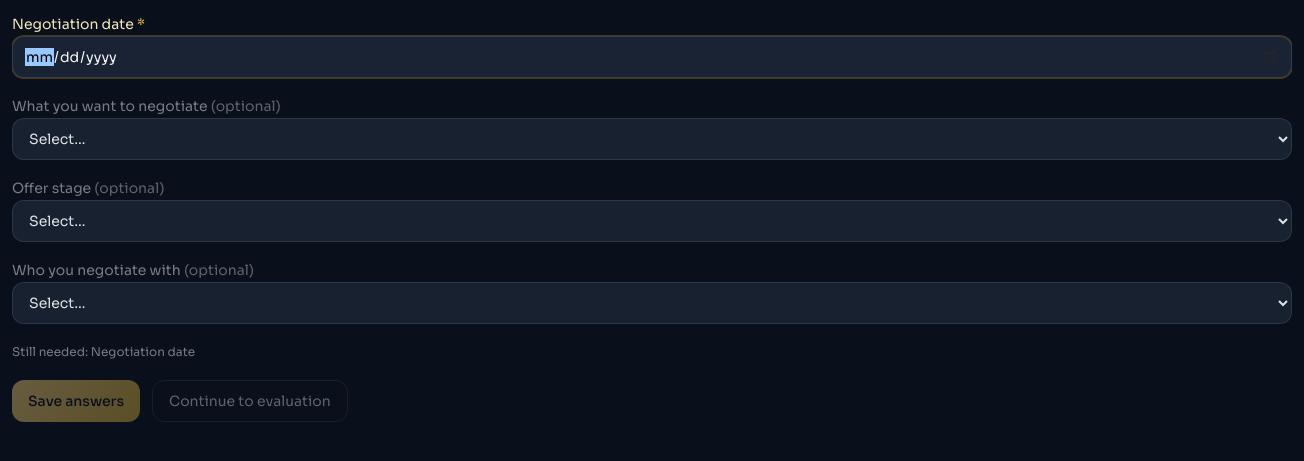
Test: OfferNegotiationIntakeForm › blocks Complete until the evaluated date is answered
This screenshot has width=1304, height=461.
Expected: the button with test id "intake-complete" is disabled, 152,380 -> 348,422
// Context alone never unlocks completion.
Select "Salary" in the dropdown with test id "intake-negotiation_goal" at (652, 139), box 12,118 -> 1292,160
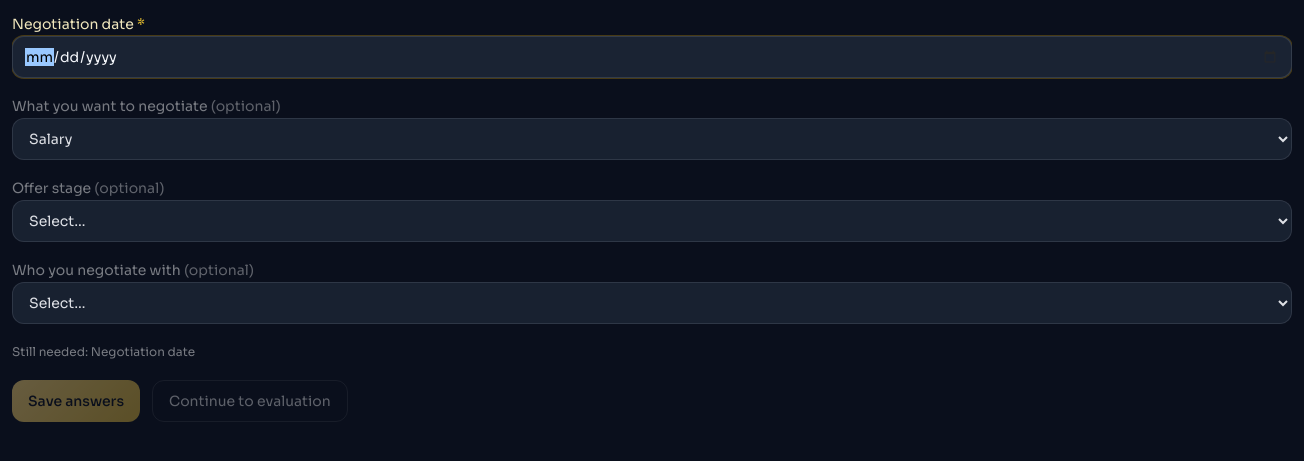
Expected: the button "Continue to evaluation" is disabled, 152,380 -> 348,422
Type "2026-09-15" into the date field with test id "intake-target_date" at (652, 57), box 12,36 -> 1292,78
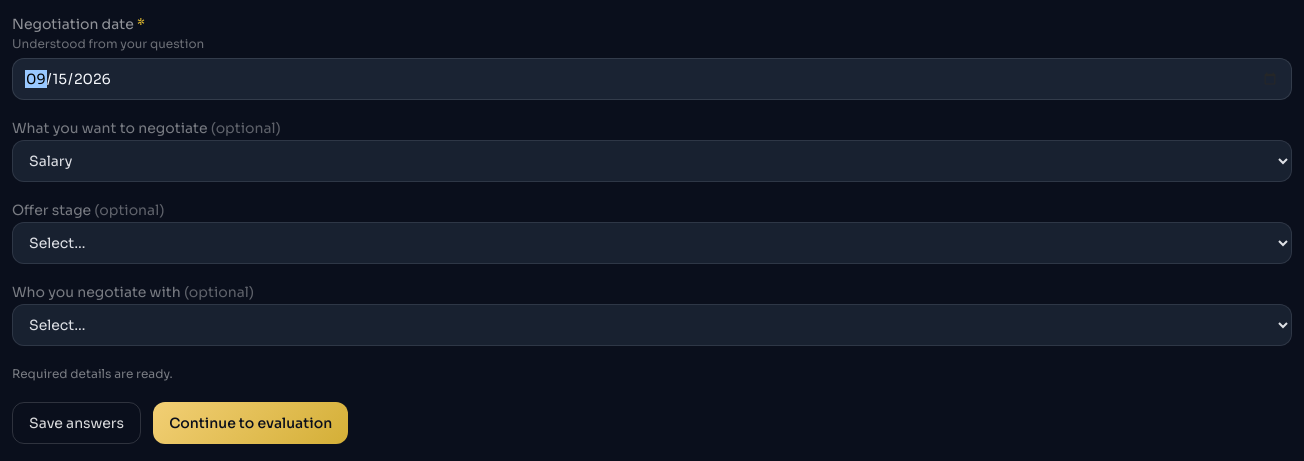
Now the button "Continue to evaluation" is enabled, box 153,402 -> 348,444
